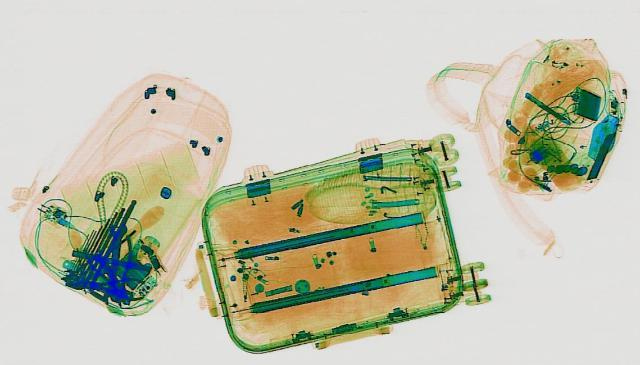Pliers: (60, 273, 146, 299)
Wrench: (102, 224, 128, 277)
